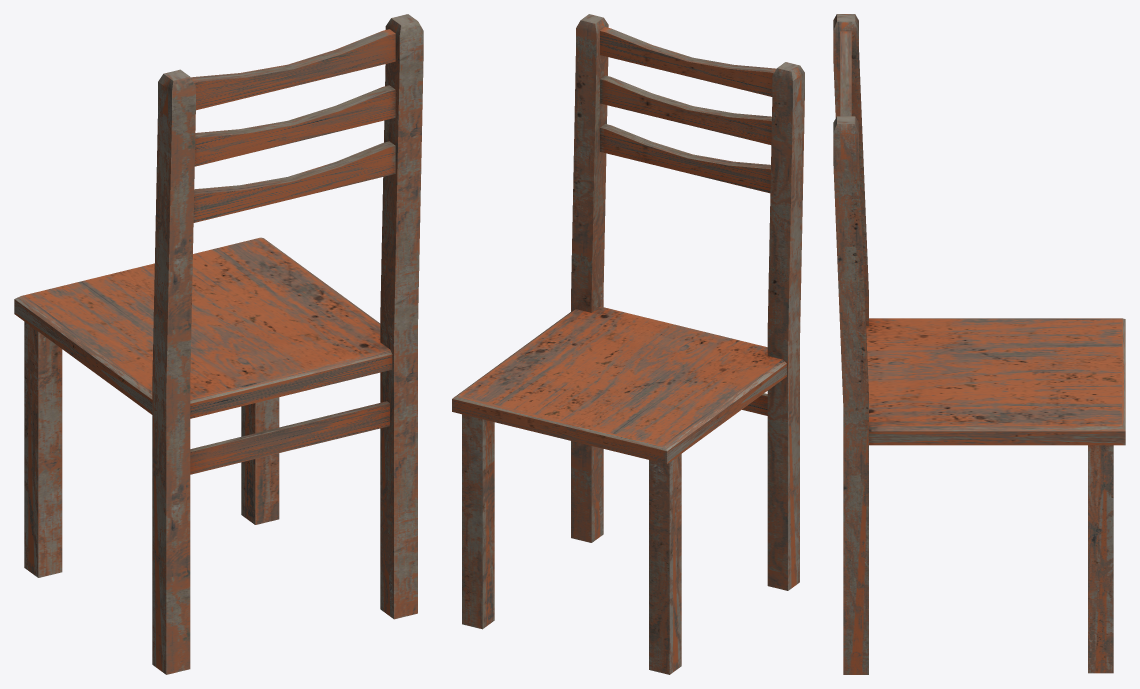
Rendered from chair.glb.
3 views of the same model, side by side, from view 1: azimuth 30°, elevation 25°; view 2: azimuth 150°, elevation 25°; view 3: azimuth 270°, elevation 25° (orthographic). The views are drawn at different scales.
Parts seen in each view (by area): view 1: Object_3; view 2: Object_3; view 3: Object_3.
Boxes of the visible parts, x1,y1,x2,y2 form: Object_3: [14, 14, 423, 674]; Object_3: [452, 14, 804, 674]; Object_3: [833, 14, 1125, 674].
Bounding box in the file's own units: 3.75 × 8.51 × 4.1.
1 material, 1 textured.
